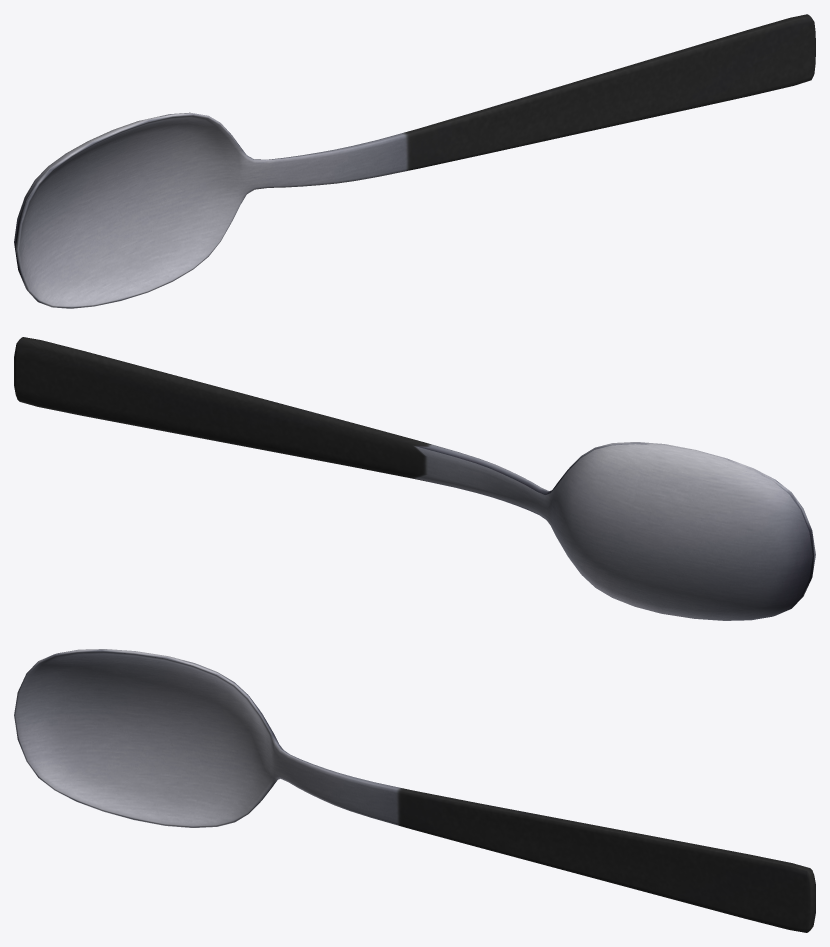
Rendered from 10317_Spoon_v1_Iterations-1.obj.
The picture shows the model from 3 angles, top to bottom: view 1: azimuth 30°, elevation 25°; view 2: azimuth 150°, elevation 25°; view 3: azimuth 330°, elevation 25°; orthographic projection. The views are drawn at different scales.
Parts seen in each view (by area): view 1: 10317_Spoon; view 2: 10317_Spoon; view 3: 10317_Spoon.
Part boxes in pixels (x1,y1,x2,y2): 10317_Spoon: (14, 14, 815, 308); 10317_Spoon: (14, 337, 815, 620); 10317_Spoon: (14, 649, 815, 932).
Size of the model in its own units: 14.6 by 2.98 by 1.13.
Materials: 1 (1 with a texture image).
